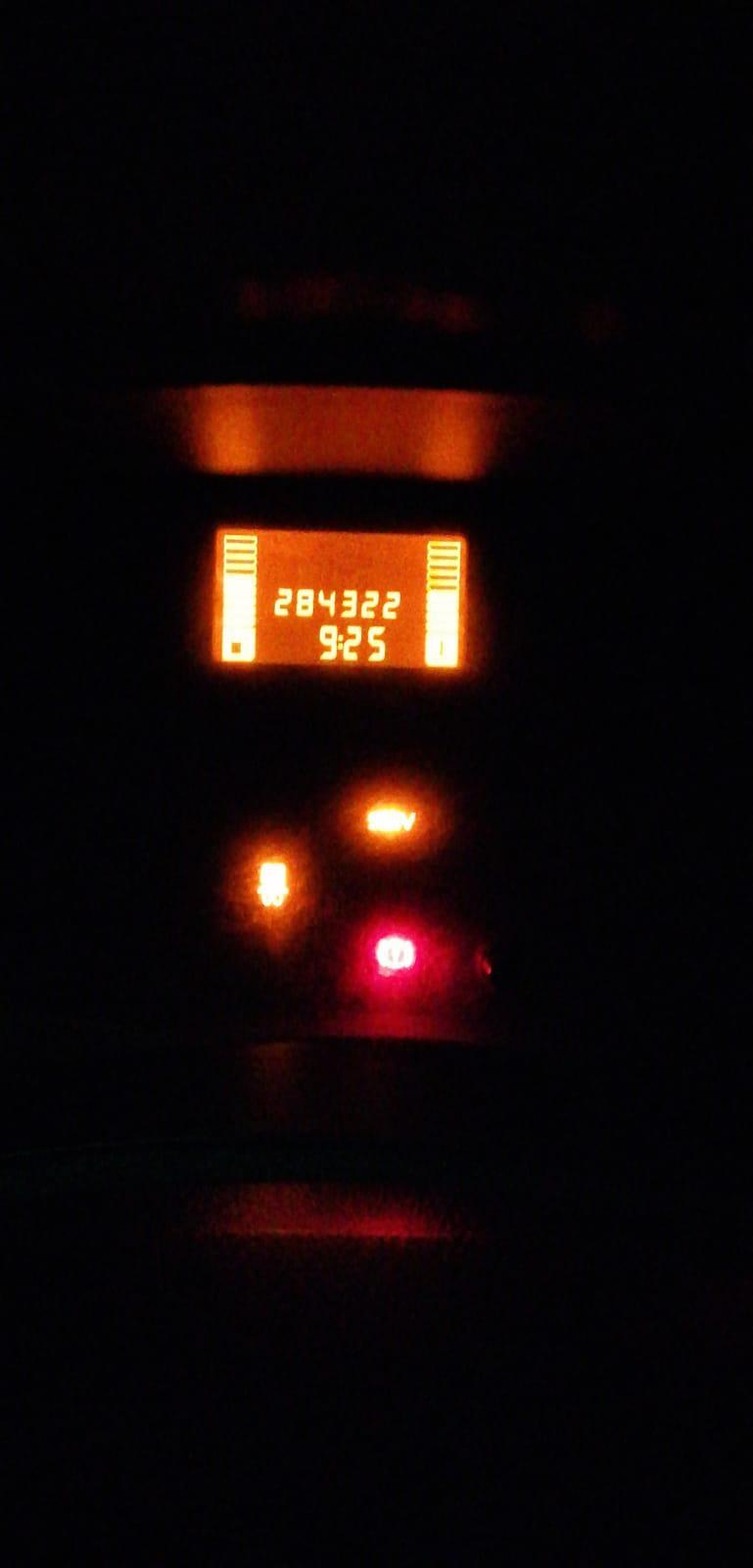2: (342, 624, 361, 661), (359, 589, 379, 618), (272, 587, 292, 616), (381, 590, 400, 619)
3: (339, 588, 357, 617)
4: (317, 588, 335, 616)
5: (366, 625, 385, 662)
8: (295, 588, 313, 616)
9: (317, 623, 337, 660)
X: (337, 633, 343, 650)
odometer: (208, 523, 469, 672)
